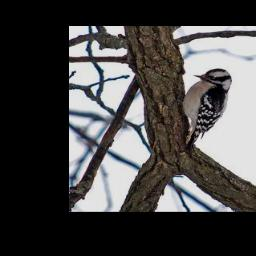Woodpecker: (170, 68, 233, 151)
